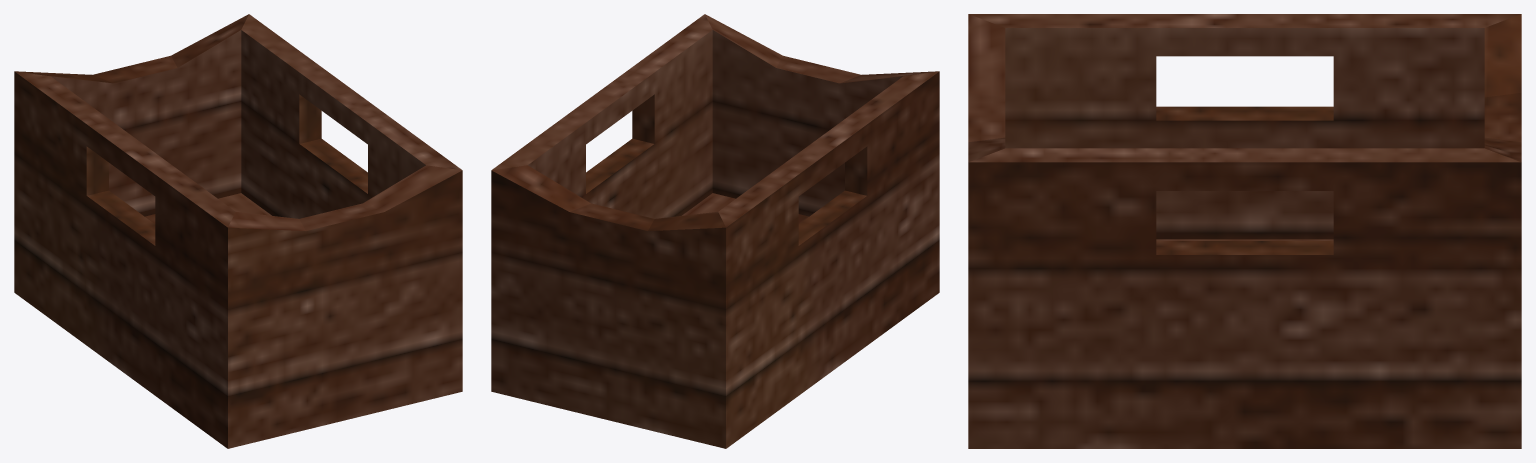
The model's file is Crate.fbx.
The picture shows the model from 3 angles, left to right: view 1: azimuth 30°, elevation 25°; view 2: azimuth 150°, elevation 25°; view 3: azimuth 270°, elevation 25°; orthographic projection. The views are drawn at different scales.
Visible parts, largest first — view 1: Cube.026; view 2: Cube.026; view 3: Cube.026.
Boxes of the visible parts, x1,y1,x2,y2 form: Cube.026: [14, 14, 462, 448]; Cube.026: [491, 14, 939, 448]; Cube.026: [968, 14, 1521, 448].
Bounding box in the file's own units: 66.02 × 59.47 × 104.
1 material, 1 textured.
